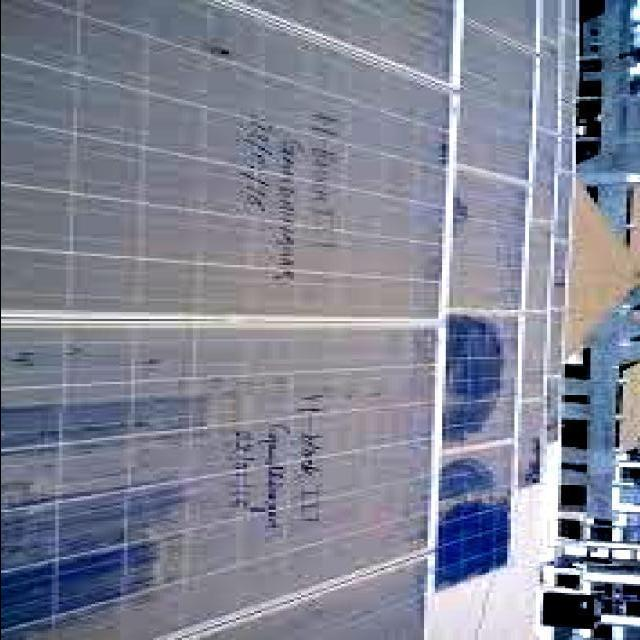soiled: (0, 1, 460, 640), (413, 1, 538, 626)
